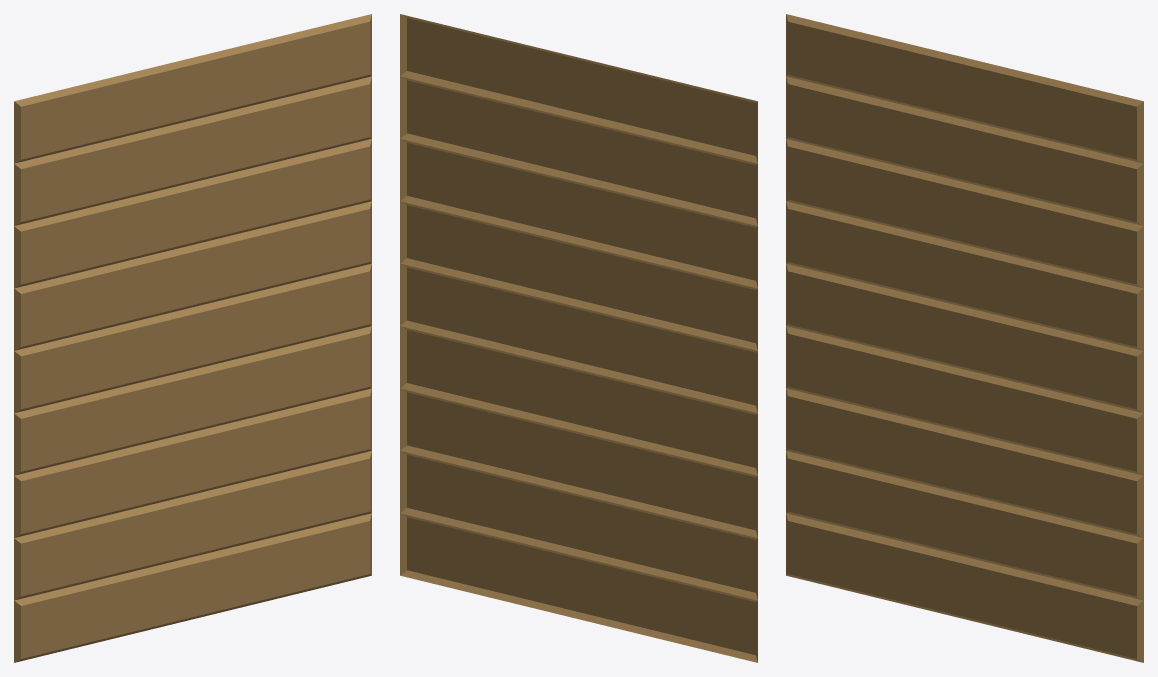
File: 2x3WallSlabs.fbx
The picture shows the model from 3 angles, left to right: view 1: azimuth 30°, elevation 25°; view 2: azimuth 150°, elevation 25°; view 3: azimuth 330°, elevation 25°; orthographic projection.
Visible parts, largest first — view 1: 2x3WallSlabs; view 2: 2x3WallSlabs; view 3: 2x3WallSlabs.
Part boxes in pixels (x1=…): 2x3WallSlabs: x1=14, y1=14, x2=371, y2=662; 2x3WallSlabs: x1=400, y1=14, x2=757, y2=662; 2x3WallSlabs: x1=786, y1=14, x2=1143, y2=662.
Size of the model in its own units: 200 by 300 by 2.5.
